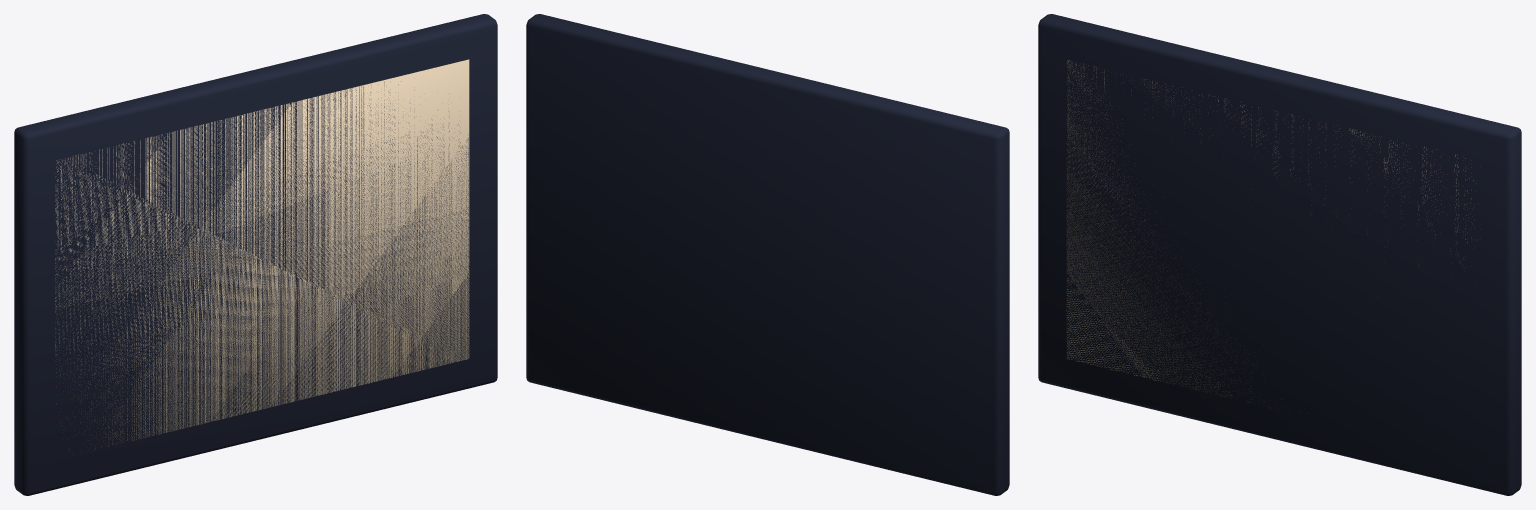
The model's file is env_picture_frame_v2.glb.
3 renders of one model, left to right at view 1: azimuth 30°, elevation 25°; view 2: azimuth 150°, elevation 25°; view 3: azimuth 330°, elevation 25°, orthographic.
Visible parts, largest first — view 1: PictureFrameV2; view 2: PictureFrameV2; view 3: PictureFrameV2.
Part boxes in pixels (<box>): PictureFrameV2: <box>14,14,497,495</box>; PictureFrameV2: <box>526,14,1009,495</box>; PictureFrameV2: <box>1038,14,1521,495</box>.
Size of the model in its own units: 2.6 by 1.9 by 0.12.
